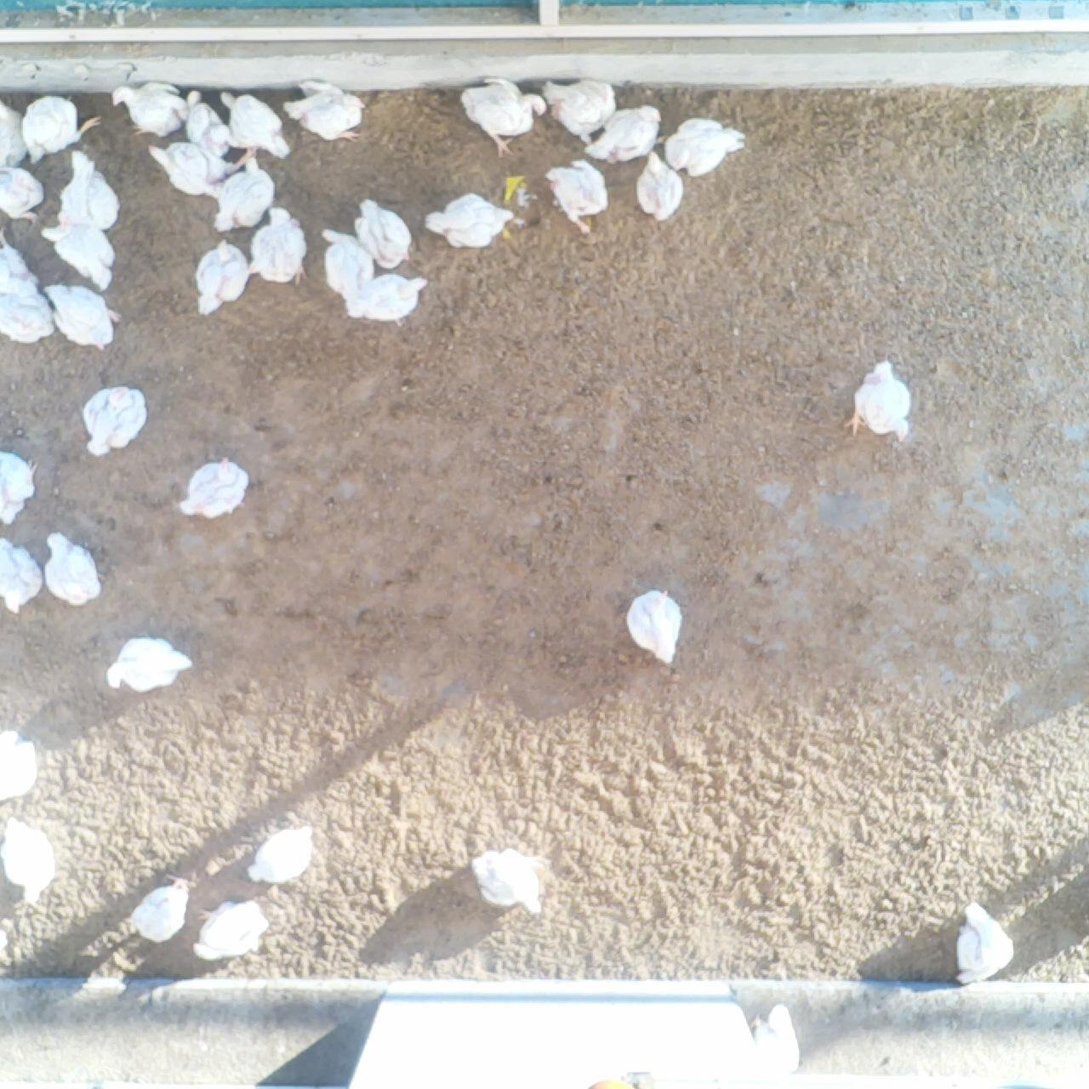chicken: (459, 73, 547, 159), (841, 351, 918, 445), (145, 141, 259, 201), (37, 217, 127, 292), (42, 277, 125, 352), (20, 93, 103, 167), (659, 113, 750, 180), (102, 630, 197, 694), (952, 899, 1016, 989), (219, 88, 294, 164), (423, 191, 516, 252), (282, 78, 366, 145), (471, 846, 550, 917), (581, 101, 664, 168), (547, 157, 614, 239), (77, 384, 152, 457), (1, 815, 59, 907), (345, 270, 431, 331), (542, 77, 618, 146), (213, 157, 278, 237), (108, 79, 189, 142), (63, 149, 122, 234), (624, 586, 684, 669), (243, 819, 315, 887), (352, 197, 417, 271), (196, 898, 270, 962), (250, 205, 308, 286), (178, 456, 251, 520), (44, 527, 101, 607), (126, 875, 191, 945), (197, 239, 250, 318), (320, 228, 376, 300), (633, 149, 687, 223), (752, 1002, 805, 1077), (1, 282, 57, 350), (1, 535, 44, 619), (185, 83, 233, 155), (1, 444, 42, 527), (1, 727, 40, 809), (1, 225, 43, 300), (1, 162, 46, 226), (1, 94, 34, 173), (1, 926, 10, 952)
